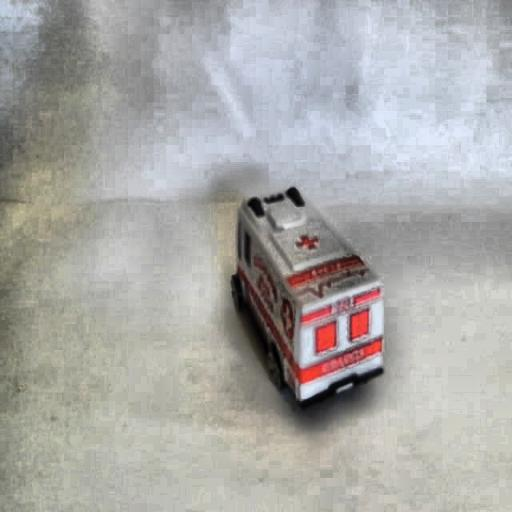ambulance: (230, 186, 384, 408)
